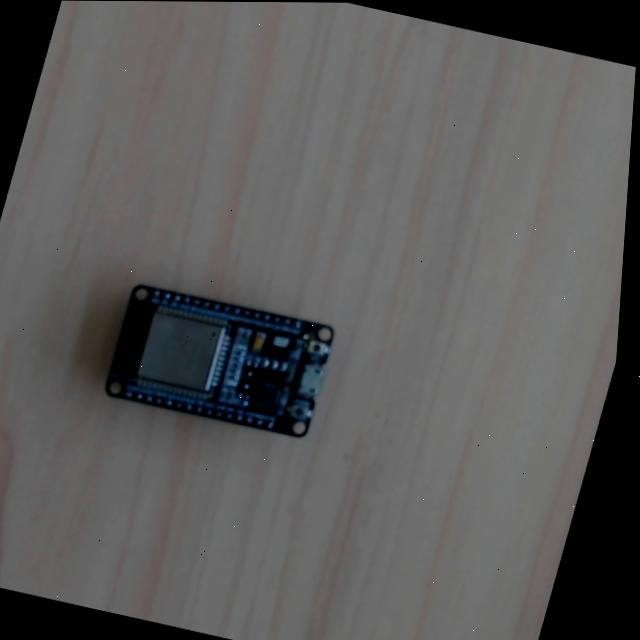ESP32-DevKit: (103, 280, 334, 438)
